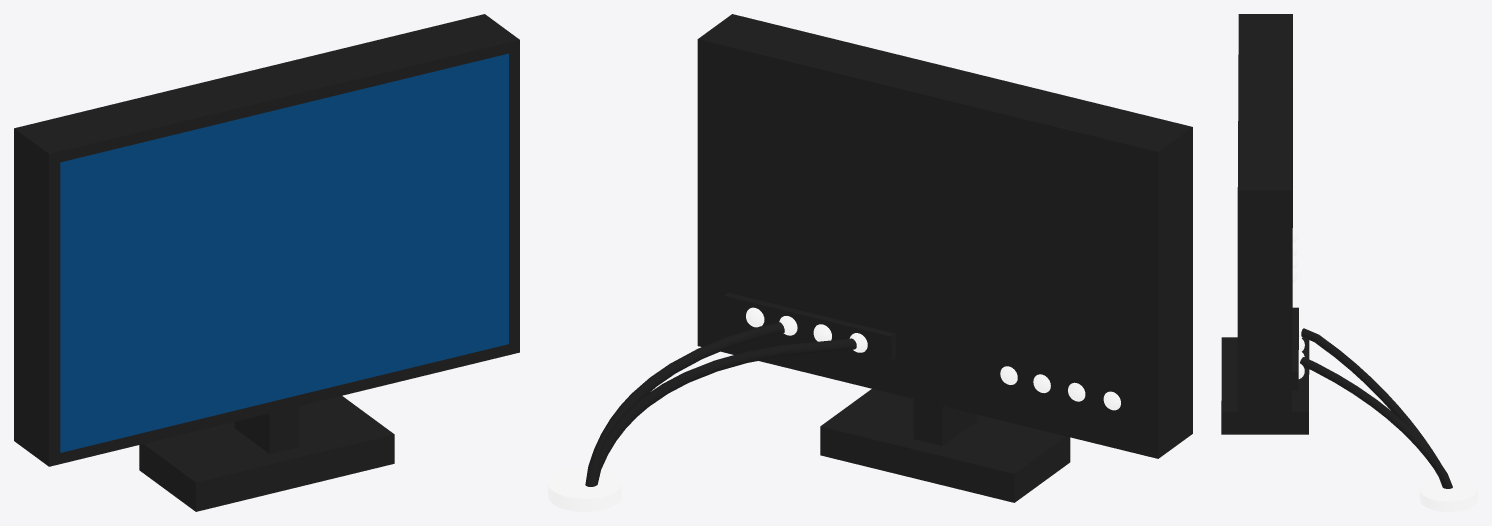
The picture shows the model from 3 angles, left to right: view 1: azimuth 30°, elevation 25°; view 2: azimuth 150°, elevation 25°; view 3: azimuth 270°, elevation 25°; orthographic projection. The views are drawn at different scales.
Visible parts, largest first — view 1: 空白_1; view 2: 空白_1; view 3: 空白_1.
Part boxes in pixels (x1,y1,x2,y2): 空白_1: [14, 14, 519, 511]; 空白_1: [548, 14, 1192, 511]; 空白_1: [1221, 14, 1477, 511].
Size of the model in its own units: 103 by 75.63 by 57.73.
